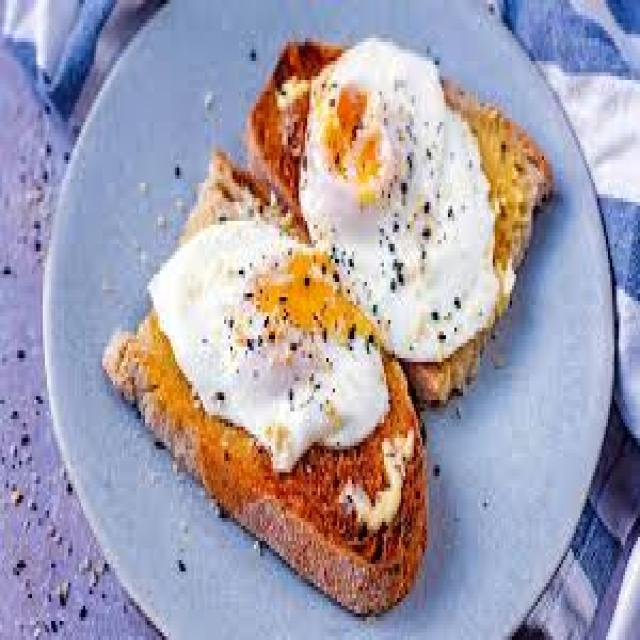Egg: (299, 38, 498, 360), (150, 221, 389, 471)
